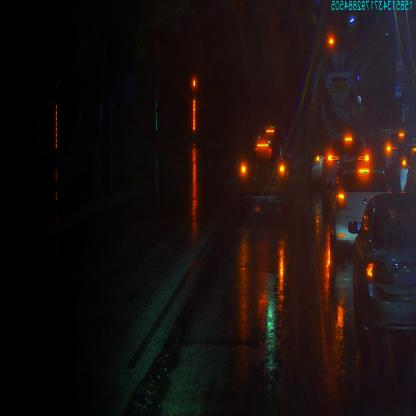traffic-light: (327, 32, 336, 47)
